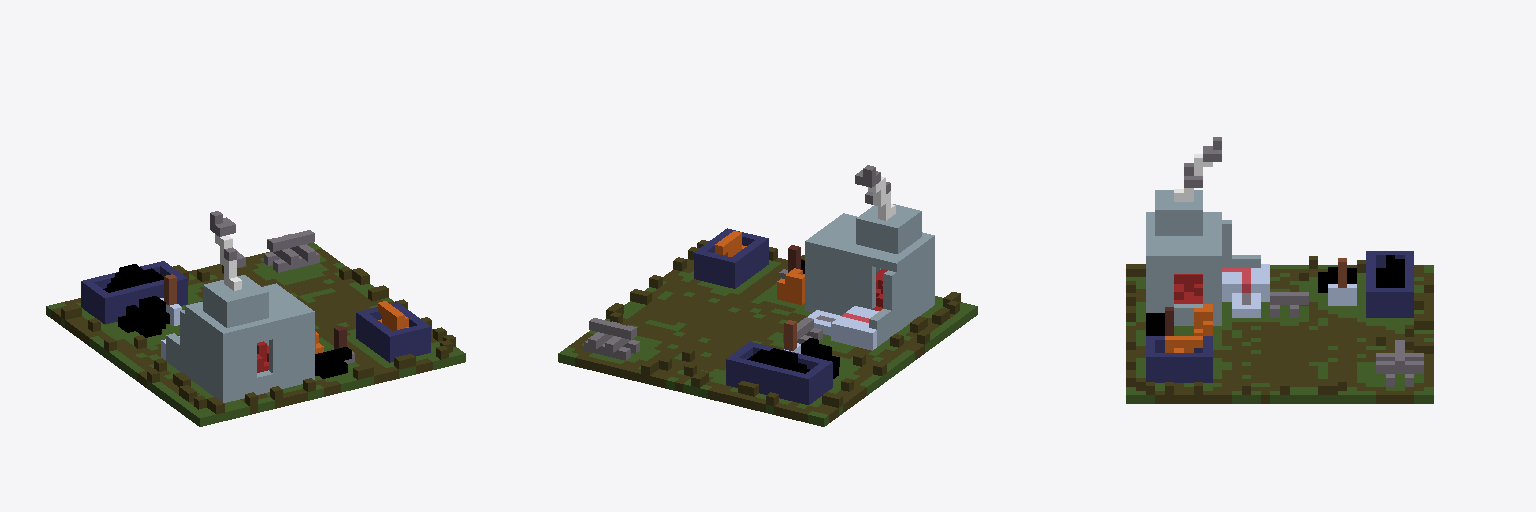
The picture shows the model from 3 angles: view 1: azimuth 30°, elevation 25°; view 2: azimuth 150°, elevation 25°; view 3: azimuth 270°, elevation 25°; orthographic projection.
Parts seen in each view (by area): view 1: object 1; view 2: object 1; view 3: object 1.
Part boxes in pixels (x1,y1,x2,y2): object 1: (46,211,465,426); object 1: (558,165,977,426); object 1: (1126,137,1433,403).
Bounding box in the file's own units: 3.2 × 1.9 × 3.2.
1 materials, 1 textured.